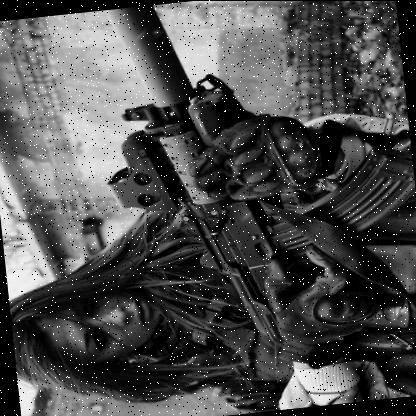rifle: (70, 0, 416, 416)
